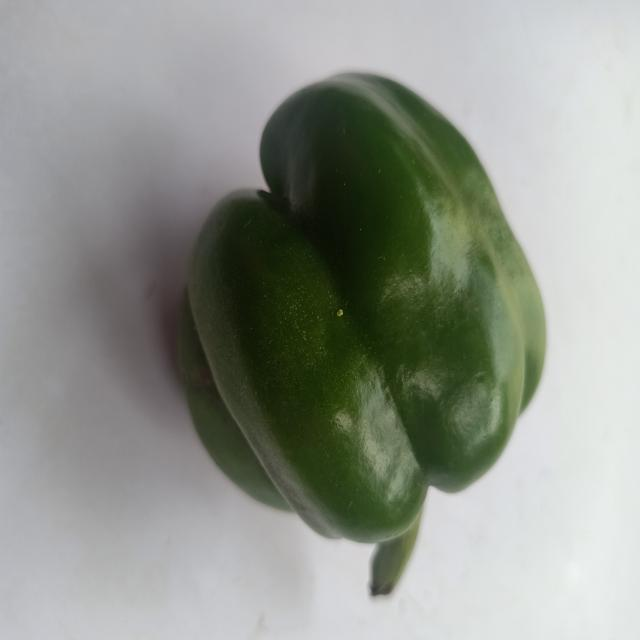Capsicum: (151, 52, 575, 612)
